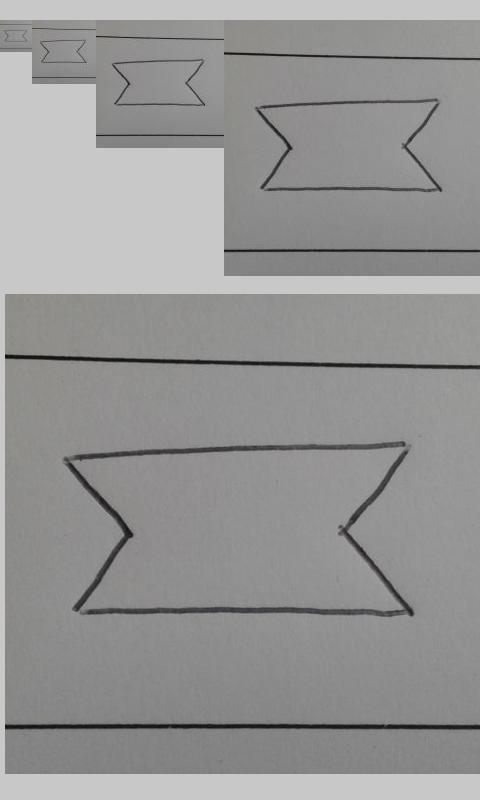edit_text: (61, 441, 415, 618), (254, 99, 441, 194), (112, 59, 206, 107), (40, 39, 87, 64), (3, 29, 28, 43)
